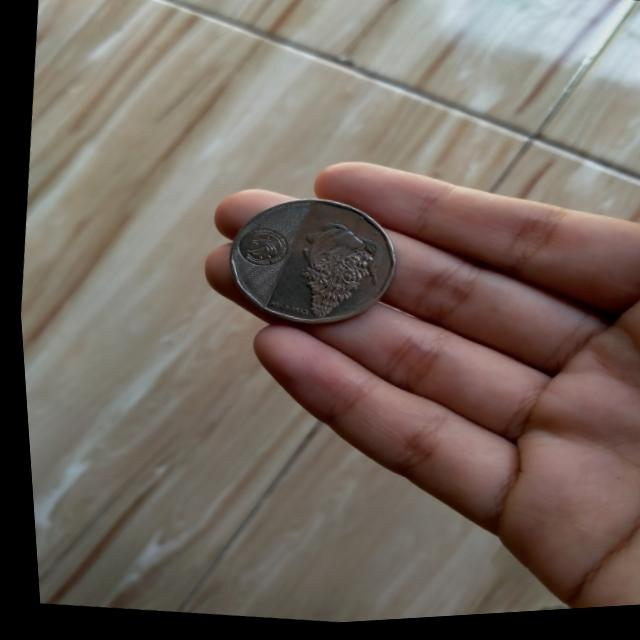10_New_Back: (282, 203, 393, 330)
